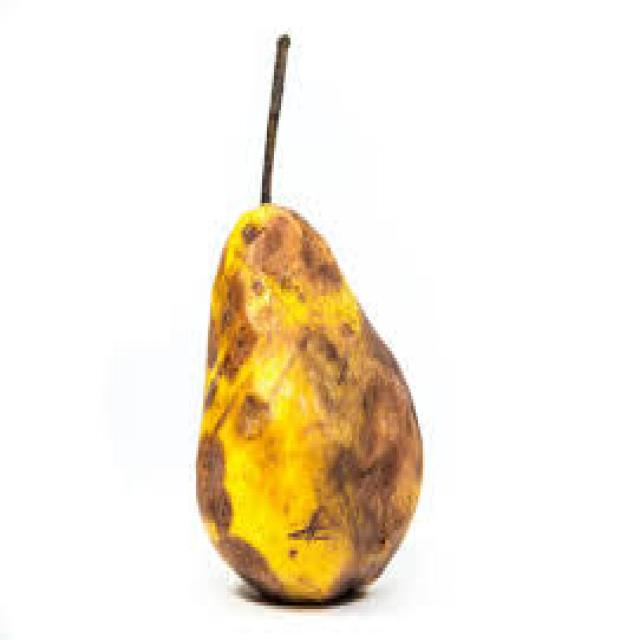organic waste: (194, 31, 420, 606)
